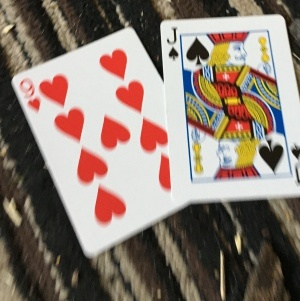card: (10, 47, 177, 254)
